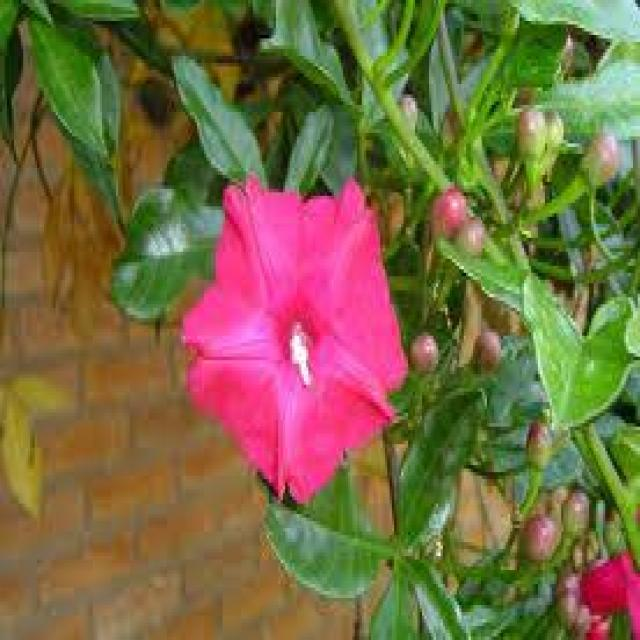organic waste: (187, 173, 414, 491)
